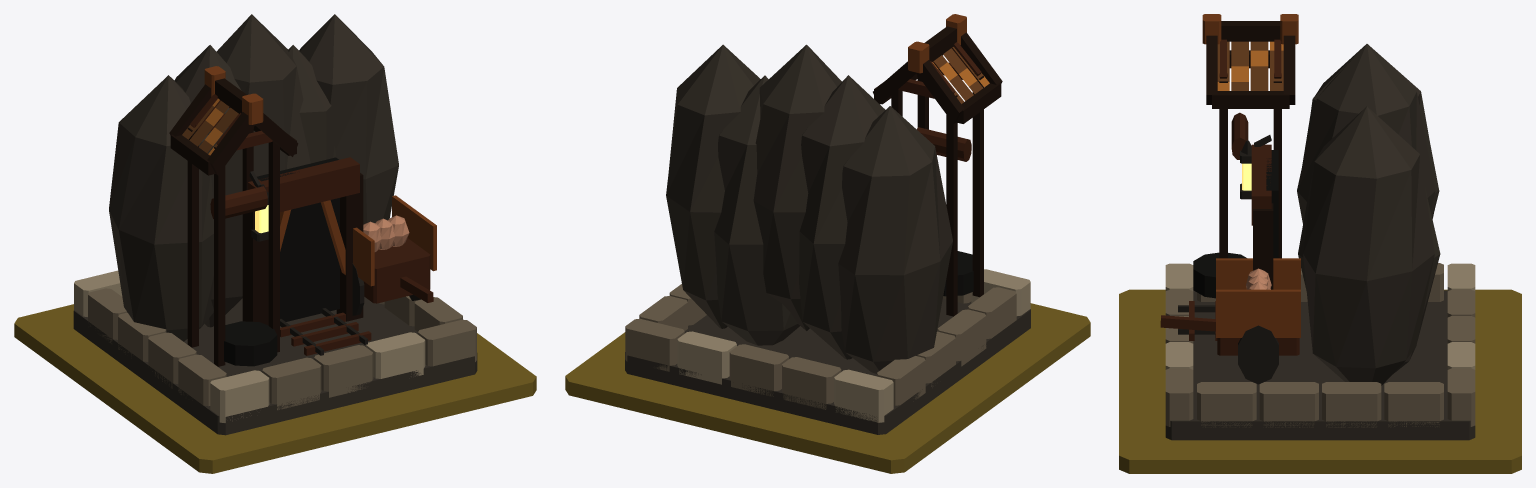
File: deephole_t5.glb
The picture shows the model from 3 angles, left to right: view 1: azimuth 30°, elevation 25°; view 2: azimuth 150°, elevation 25°; view 3: azimuth 270°, elevation 25°; orthographic projection. The views are drawn at different scales.
Parts seen in each view (by area): view 1: MMR | deephole | T05 Architecture.001, MMR | deephole | Tier 05 Ground.001; view 2: MMR | deephole | T05 Architecture.001, MMR | deephole | Tier 05 Ground.001; view 3: MMR | deephole | T05 Architecture.001, MMR | deephole | Tier 05 Ground.001.
Part boxes in pixels (x1,y1,x2,y2): MMR | deephole | T05 Architecture.001: (73, 14, 477, 435); MMR | deephole | Tier 05 Ground.001: (14, 304, 536, 473); MMR | deephole | T05 Architecture.001: (625, 14, 1030, 434); MMR | deephole | Tier 05 Ground.001: (565, 303, 1090, 473); MMR | deephole | T05 Architecture.001: (1160, 14, 1475, 440); MMR | deephole | Tier 05 Ground.001: (1119, 289, 1521, 473).
Size of the model in its own units: 1.3 by 1.23 by 1.3.
Materials: 2 (1 with a texture image).
